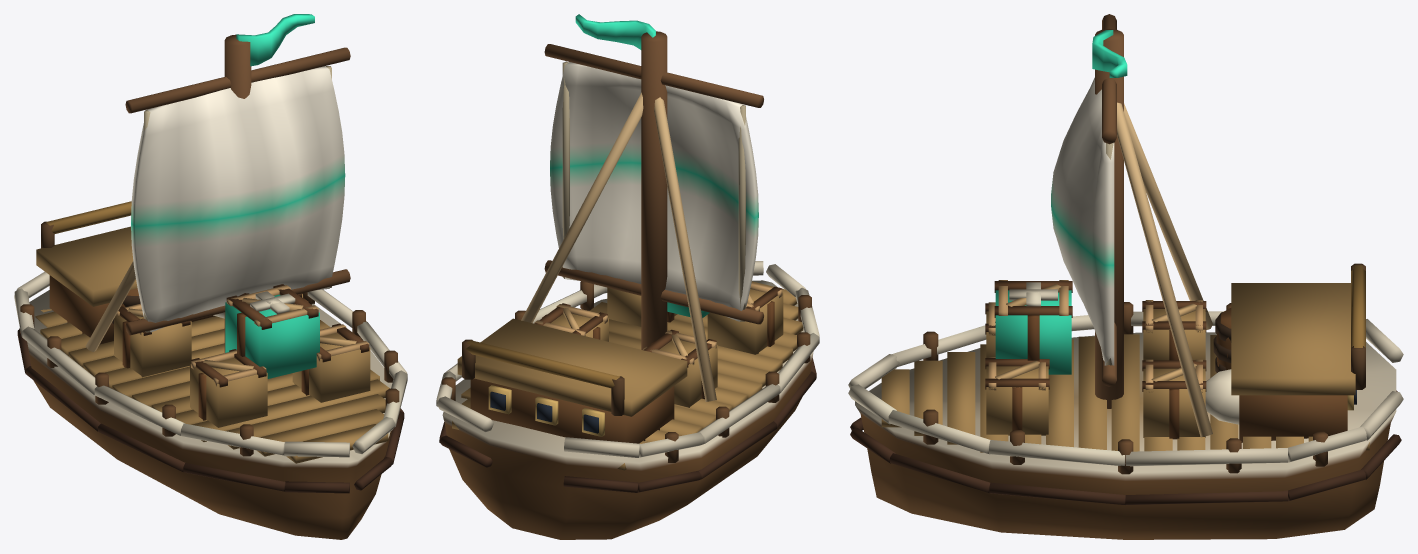
The model's file is barco-suministros.glb.
3 renders of one model, left to right at view 1: azimuth 30°, elevation 25°; view 2: azimuth 150°, elevation 25°; view 3: azimuth 270°, elevation 25°, orthographic. The views are drawn at different scales.
Parts seen in each view (by area): view 1: Hull, Sail, Cargo, Mast, Flag; view 2: Hull, Sail, Mast, Cargo, Flag; view 3: Hull, Cargo, Sail, Mast, Flag.
Boxes of the visible parts, x1,y1,x2,y2 form: Hull: [14, 201, 407, 539]; Sail: [125, 47, 350, 335]; Cargo: [112, 284, 370, 427]; Mast: [85, 34, 251, 352]; Flag: [236, 14, 314, 66]; Hull: [436, 261, 819, 539]; Sail: [544, 44, 763, 324]; Mast: [521, 31, 716, 401]; Cargo: [534, 282, 783, 407]; Flag: [575, 14, 655, 49]; Hull: [848, 263, 1403, 539]; Cargo: [985, 280, 1239, 439]; Sail: [1051, 14, 1116, 386]; Mast: [1095, 29, 1212, 437]; Flag: [1092, 30, 1127, 77].
Size of the model in its own units: 0.6215 by 0.9254 by 1.
